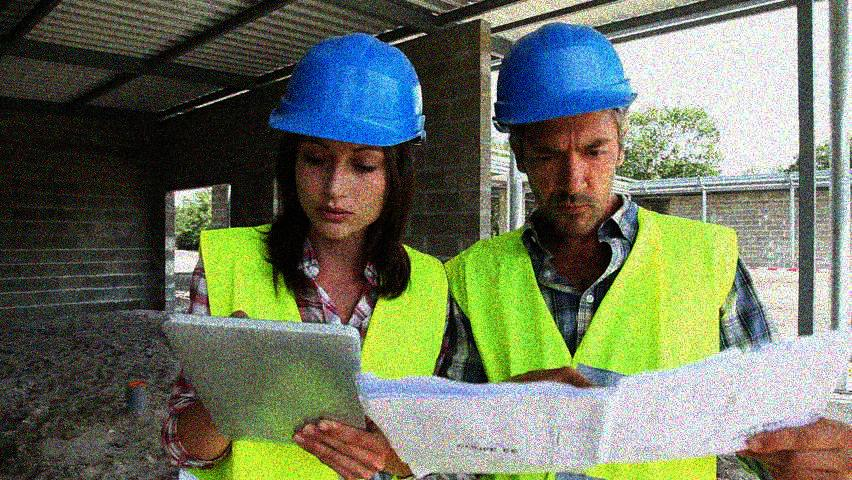helmet: (271, 32, 430, 242), (492, 21, 638, 240)
